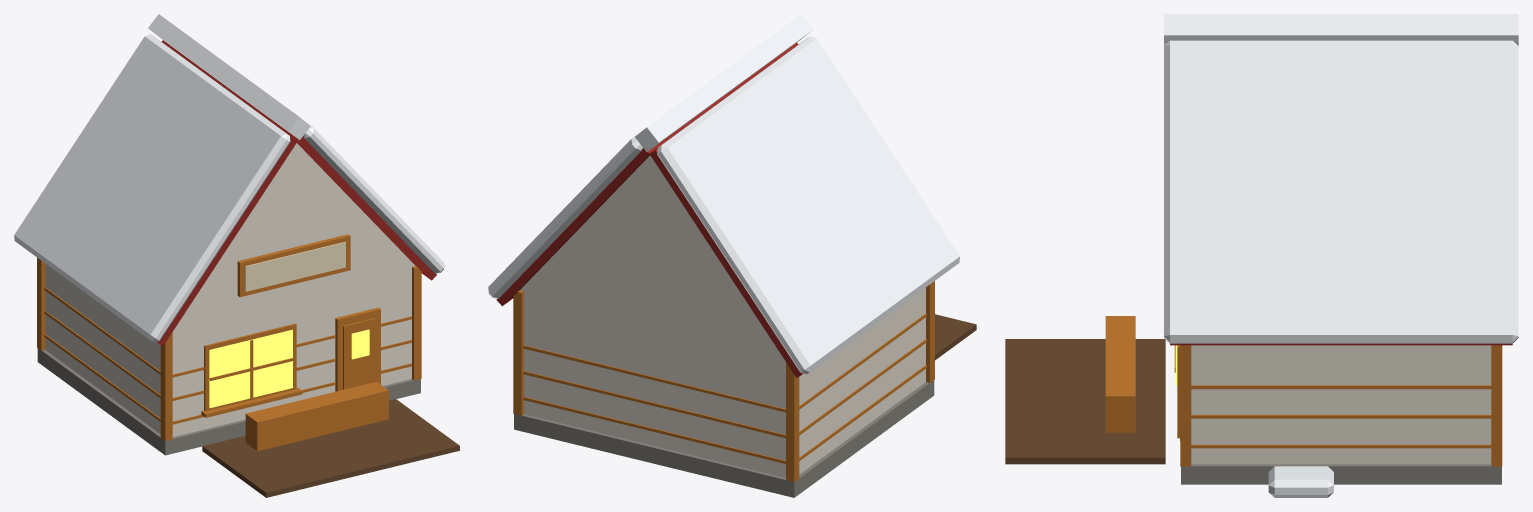
The model's file is waffle-haus-sugarhouse.glb.
The picture shows the model from 3 angles, left to right: view 1: azimuth 30°, elevation 25°; view 2: azimuth 150°, elevation 25°; view 3: azimuth 270°, elevation 25°; orthographic projection. The views are drawn at different scales.
Parts seen in each view (by area): view 1: waffle-haus-sugarhouse; view 2: waffle-haus-sugarhouse; view 3: waffle-haus-sugarhouse.
Part boxes in pixels (x1,y1,x2,y2): waffle-haus-sugarhouse: (14, 14, 459, 497); waffle-haus-sugarhouse: (488, 14, 976, 497); waffle-haus-sugarhouse: (1005, 14, 1518, 497).
Bounding box in the file's own units: 8.71 × 8.62 × 10.24.
